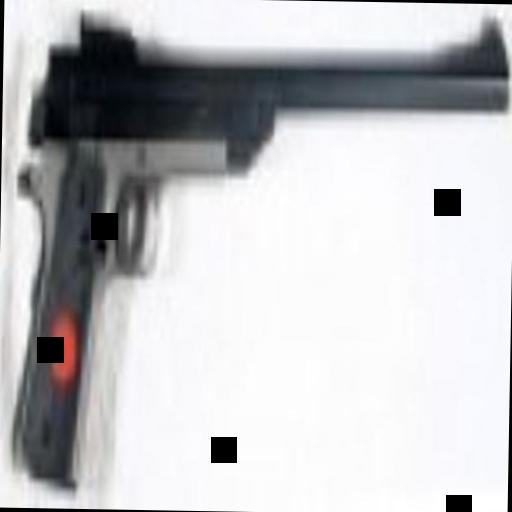Handgun: (4, 6, 508, 498)
